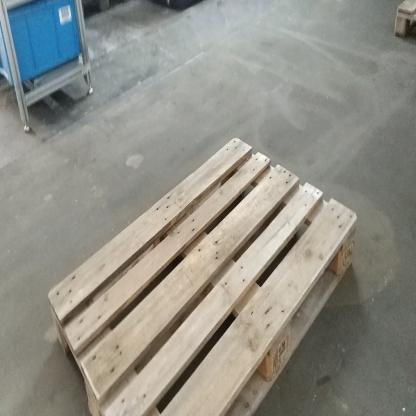BoxFace: (45, 130, 362, 416)
